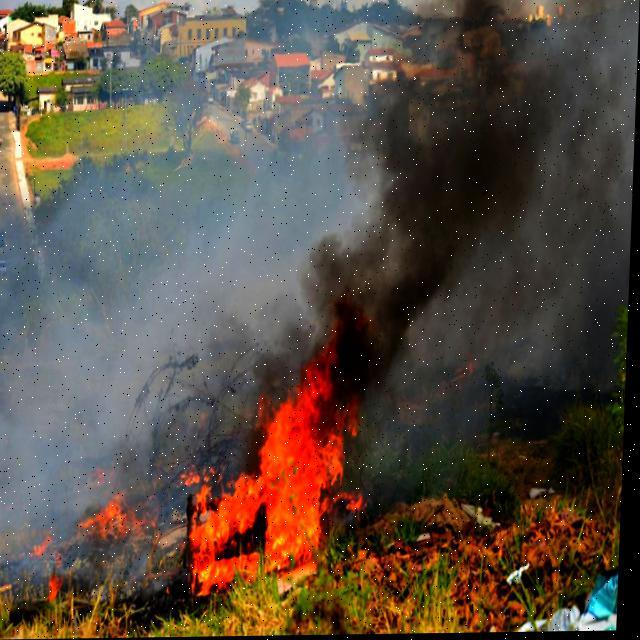Fire: (178, 349, 377, 596), (74, 484, 152, 542), (177, 454, 210, 494), (50, 572, 71, 608), (30, 537, 63, 555)
